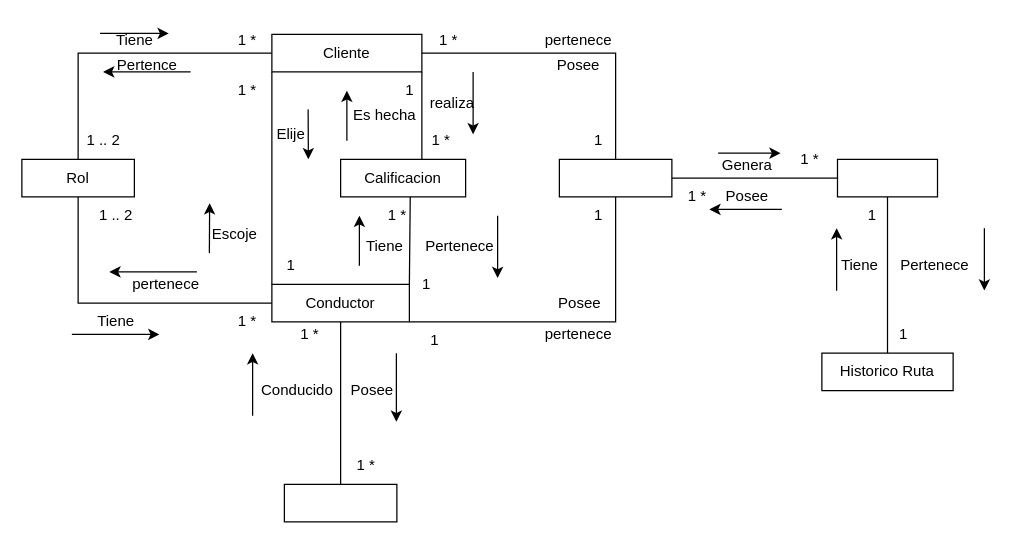
The diagram is 1016 pixels wide and 544 high, and some of its shapes have lost their labels. The centre of each missing label's shape, as x and y in pixels:
"Ruta" goes at point (887, 177).
"Ubicación" goes at point (615, 177).
"Vehiculo" goes at point (340, 502).
